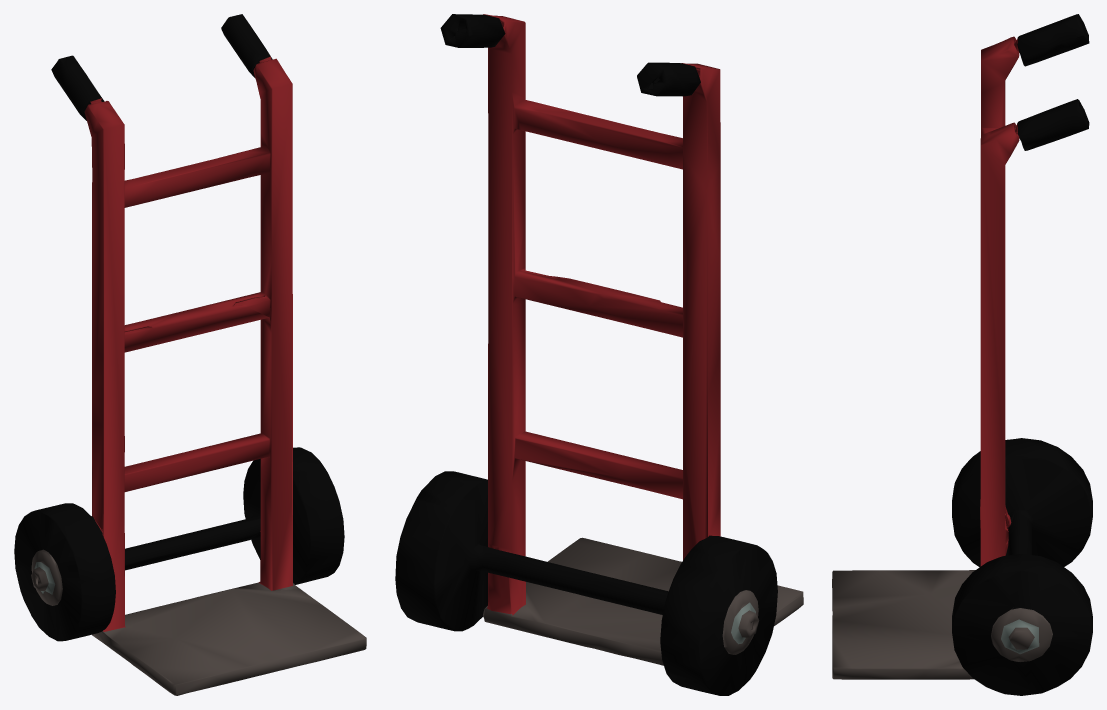
The model's file is SM_Carretilla.fbx.
3 views of the same model, side by side, from view 1: azimuth 30°, elevation 25°; view 2: azimuth 150°, elevation 25°; view 3: azimuth 270°, elevation 25° (orthographic). The views are drawn at different scales.
Visible parts, largest first — view 1: SM_Carretilla; view 2: SM_Carretilla; view 3: SM_Carretilla.
Part boxes in pixels (x1,y1,x2,y2): SM_Carretilla: [14, 14, 366, 695]; SM_Carretilla: [395, 14, 803, 695]; SM_Carretilla: [832, 14, 1092, 695].
Bounding box in the file's own units: 0.6532 × 1.2 × 0.4964.
Materials: 1 (1 with a texture image).
